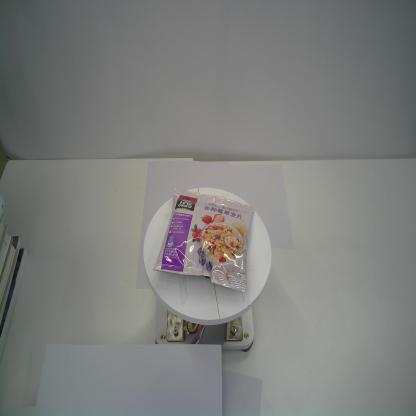Instant Drink: (152, 187, 254, 294)
